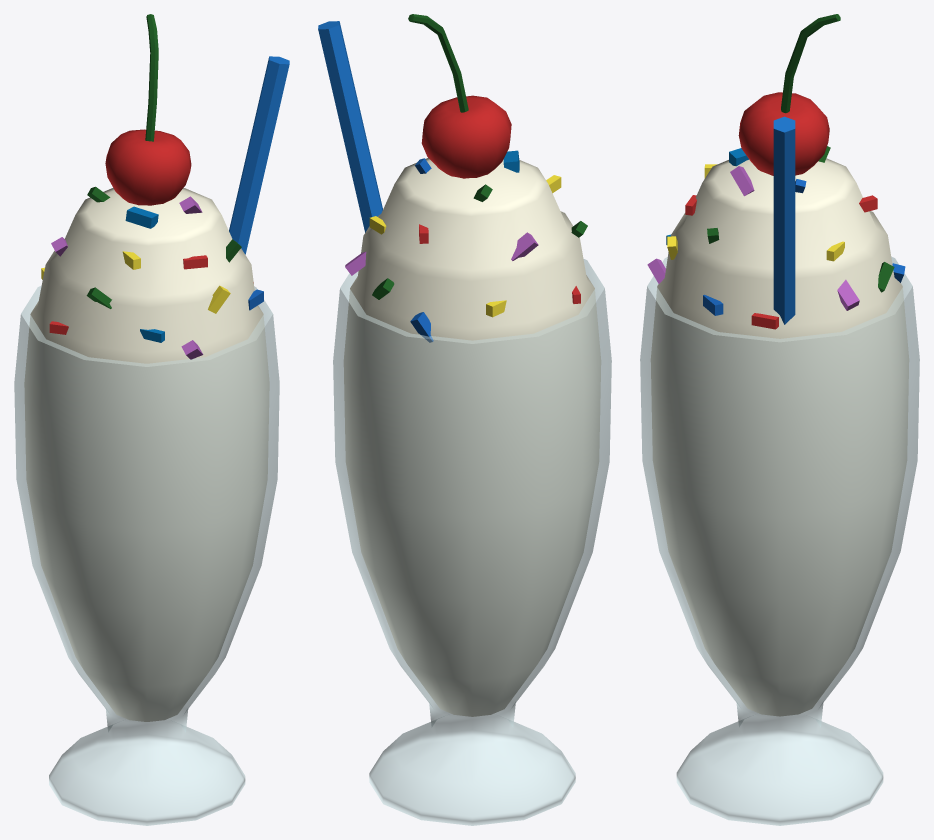
Rendered from Milkshake.fbx.
3 renders of one model, left to right at view 1: azimuth 30°, elevation 25°; view 2: azimuth 150°, elevation 25°; view 3: azimuth 270°, elevation 25°, orthographic. The views are drawn at different scales.
Visible parts, largest first — view 1: Milkshake; view 2: Milkshake; view 3: Milkshake.
Part boxes in pixels (x1,y1,x2,y2): Milkshake: (14,14,289,825); Milkshake: (318,14,611,825); Milkshake: (640,14,919,825).
Bounding box in the file's own units: 24.51 × 67.1 × 21.71.
